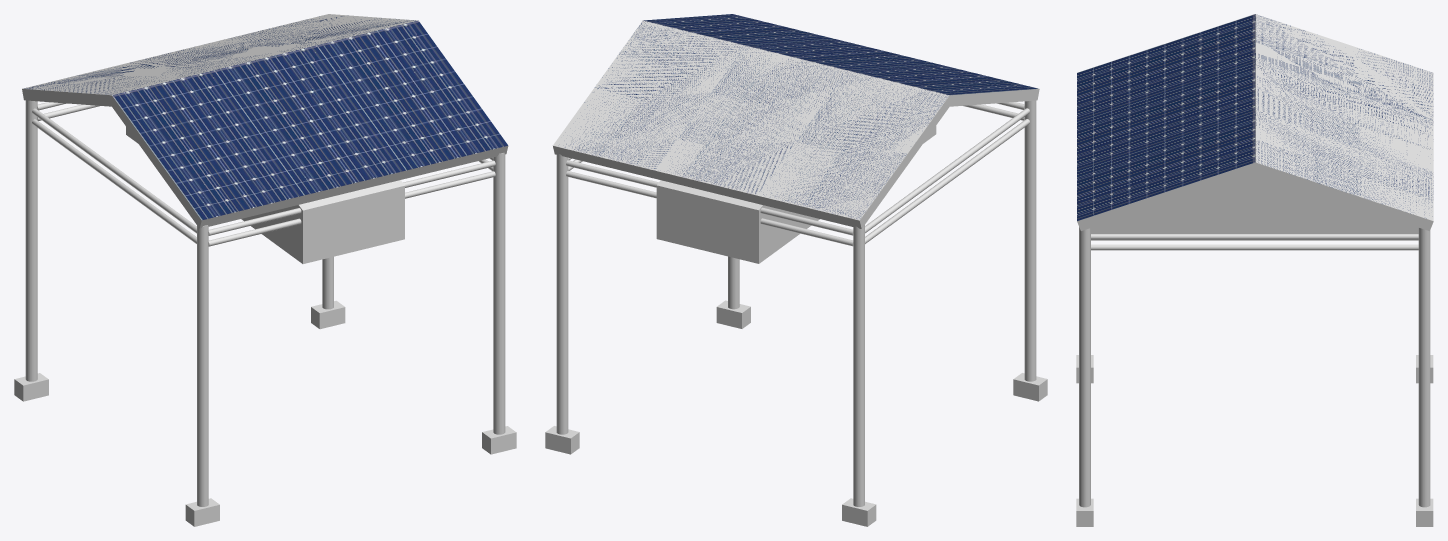
File: agiSolar.glb
3 views of the same model, side by side, from view 1: azimuth 30°, elevation 25°; view 2: azimuth 150°, elevation 25°; view 3: azimuth 270°, elevation 25° (orthographic).
Visible parts, largest first — view 1: Cube.004, Cube.006, Cube.003, Cube.001, Cube.002, Cylinder.002, Cylinder, Cylinder.004, Cube.005, Cube.007, Cylinder.001, Cylinder.005 (+7 smaller); view 2: Cube.002, Cube.007, Cube.005, Cube.001, Cube.004, Cylinder.003, Cylinder.004, Cylinder, Cube.003, Cube.006, Cylinder.001, Cylinder.005 (+7 smaller); view 3: Cube.001, Cube.003, Cube.005, Cube.004, Cube.007, Cube.002, Cube.006, Cylinder.003, Cylinder.002, Cylinder.013, Cylinder.012, Cube.008 (+1 smaller).
Part boxes in pixels (x1,y1,x2,y2): Cube.004: [112, 70, 303, 228]; Cube.006: [214, 45, 406, 203]; Cube.003: [316, 20, 508, 178]; Cube.001: [126, 127, 404, 263]; Cube.002: [22, 64, 213, 106]; Cylinder.002: [493, 152, 505, 434]; Cylinder: [25, 100, 37, 381]; Cylinder.004: [197, 225, 208, 506]; Cube.005: [227, 14, 418, 45]; Cube.007: [124, 39, 315, 70]; Cylinder.001: [32, 108, 196, 233]; Cylinder.005: [32, 119, 196, 243]; Cube.002: [757, 70, 951, 228]; Cube.007: [655, 45, 846, 203]; Cube.005: [553, 20, 744, 178]; Cube.001: [656, 126, 936, 263]; Cube.004: [847, 64, 1039, 106]; Cylinder.003: [556, 154, 568, 434]; Cylinder.004: [1024, 100, 1036, 381]; Cylinder: [853, 225, 864, 506]; Cube.003: [643, 14, 833, 45]; Cube.006: [745, 39, 936, 70]; Cylinder.001: [865, 108, 1029, 233]; Cylinder.005: [865, 119, 1029, 243]; Cube.001: [1091, 173, 1418, 240]; Cube.003: [1077, 113, 1258, 230]; Cube.005: [1252, 113, 1433, 231]; Cube.004: [1077, 14, 1255, 121]; Cube.007: [1255, 63, 1433, 171]; Cube.002: [1255, 14, 1433, 121]; Cube.006: [1077, 63, 1255, 171]; Cylinder.003: [1418, 228, 1430, 507]; Cylinder.002: [1079, 227, 1090, 507]; Cylinder.013: [1091, 244, 1418, 250]; Cylinder.012: [1091, 234, 1418, 239]; Cube.008: [1416, 498, 1433, 526].
Size of the model in its own units: 3.15 by 3.4 by 3.05.
10 materials, 5 textured.
